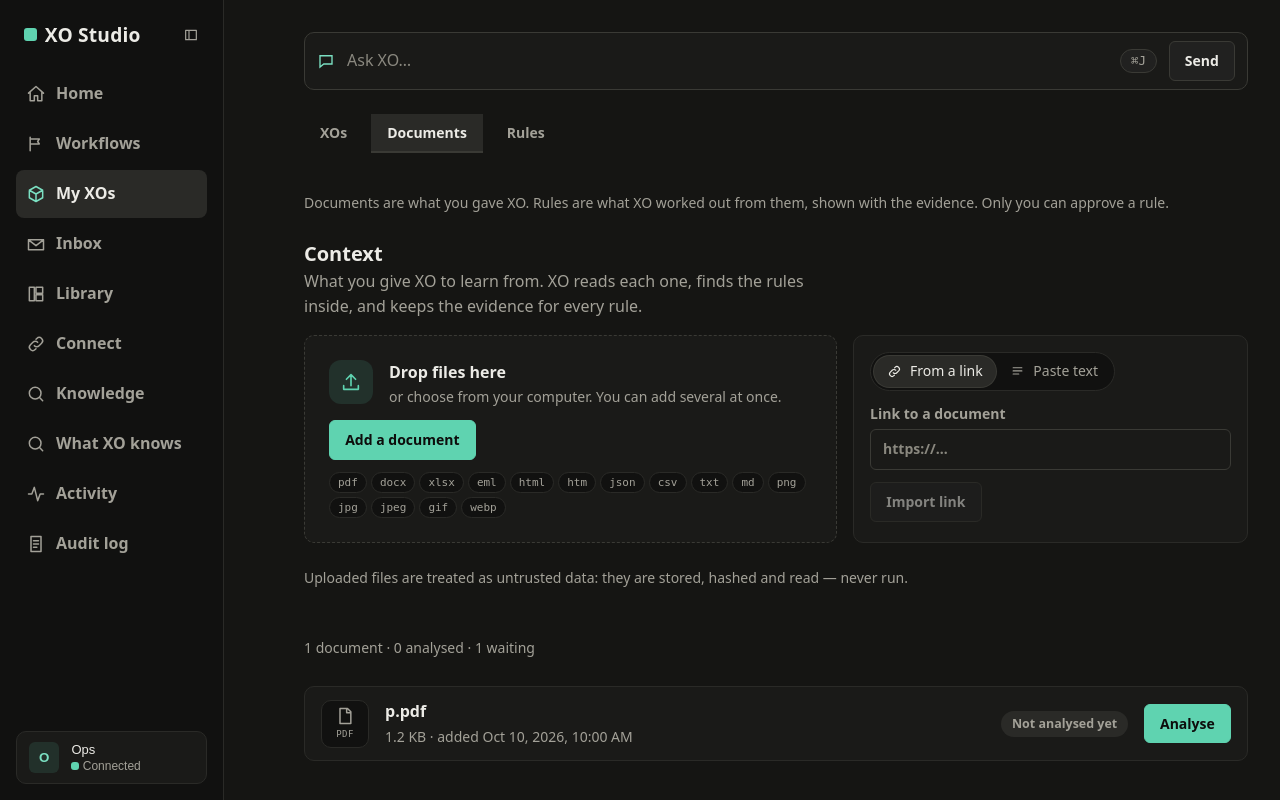
Start work: availability is explained from real state › lists what is not available and why, and the reasons match what is offered
Earlier steps of the test are not shown.
Later steps or results of the test are not shown.
Click the button "Analyse".
click(1187, 724)  # box [1144,704,1231,743]
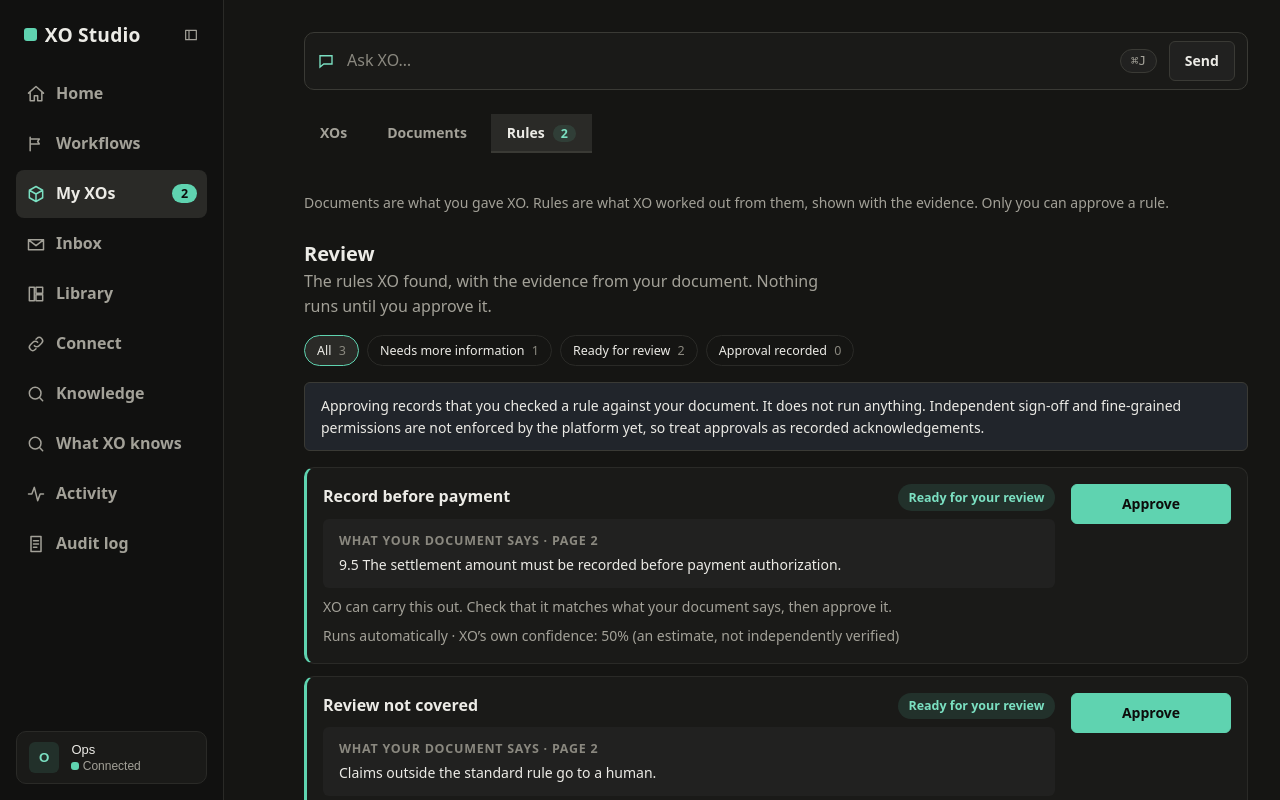
Expected: the text "settlement amount must be recorded" is shown, [339,555,841,574]
